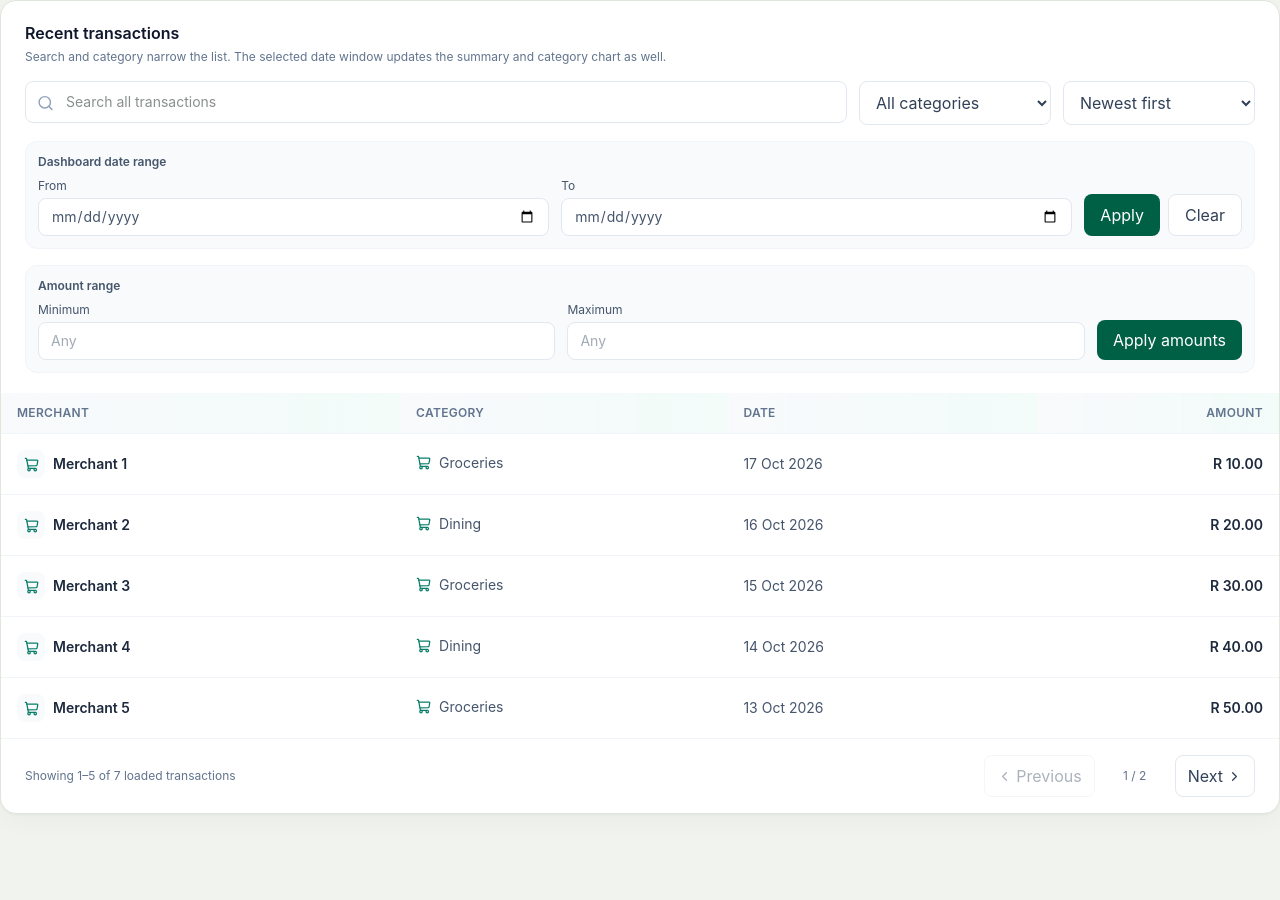
Test: RecentTransactions › paginates loaded transactions and disables navigation at the boundaries
The width and height of the screenshot is (1280, 900).
Expected: the text "Merchant 1" is shown, [53,454,127,474]
Expected: the text "Merchant 5" is shown, [53,698,130,718]
Click the button "Next": (1215, 776) [1175,755,1255,797]
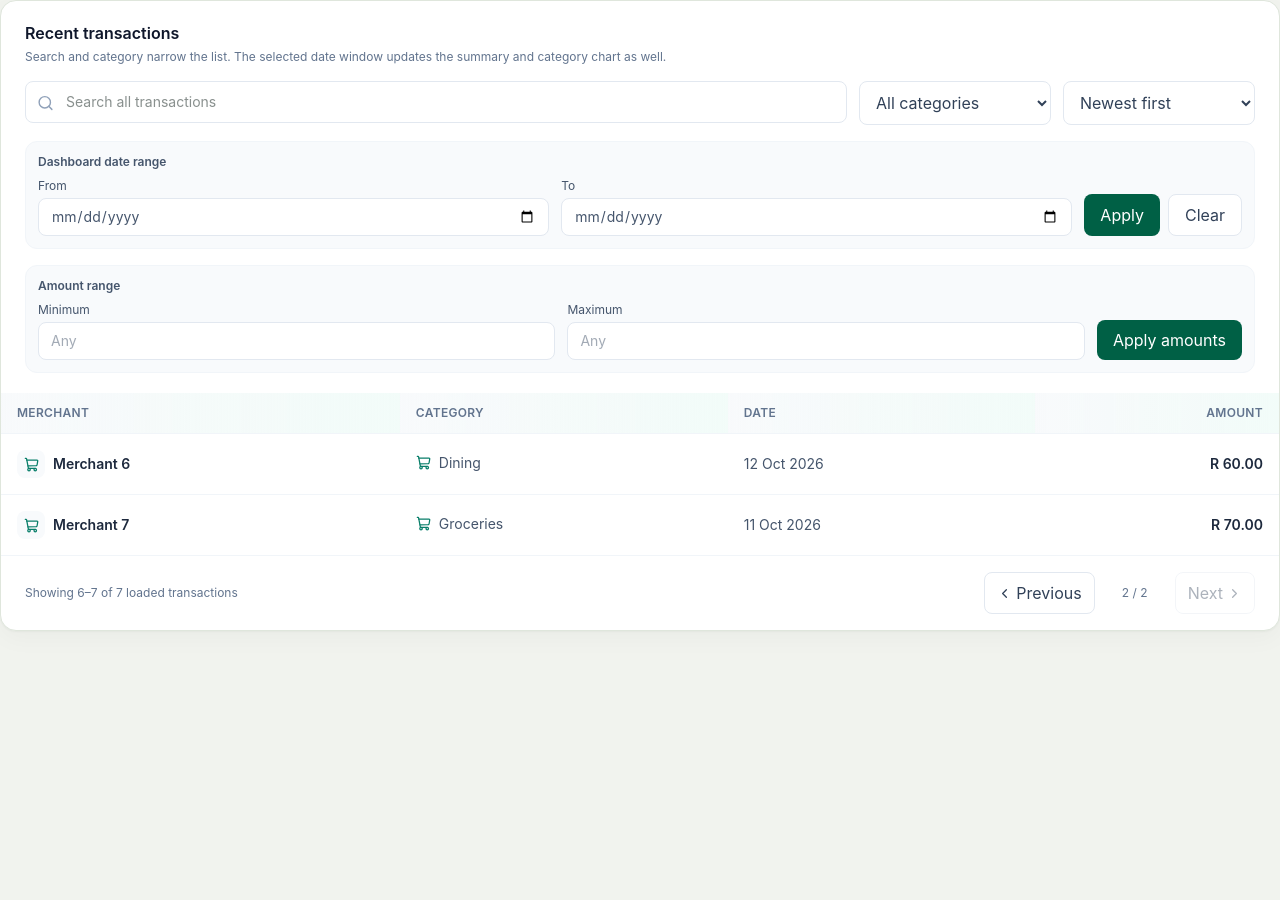
Now the button "Merchant 1" is gone
Now the text "Merchant 6" is shown, box [53,454,130,474]
Now the text "Showing 6–7 of 7 loaded transactions" is shown, box [25,585,238,601]
